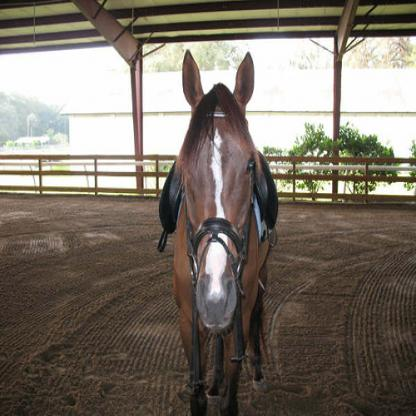horse: (170, 48, 274, 415)
